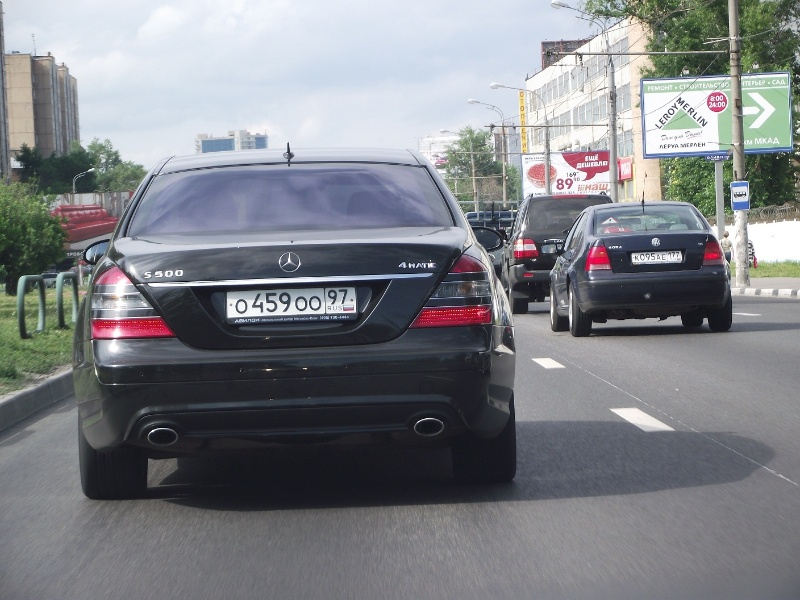car: (73, 149, 518, 502), (548, 201, 733, 337), (503, 194, 612, 312)
person: (719, 230, 732, 266)
plate: (228, 287, 356, 315), (631, 250, 682, 263)
